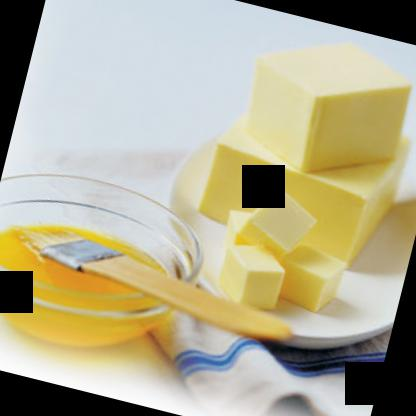butter: (188, 90, 415, 273), (237, 22, 415, 198), (232, 180, 322, 262), (272, 238, 350, 312), (214, 237, 288, 314)
